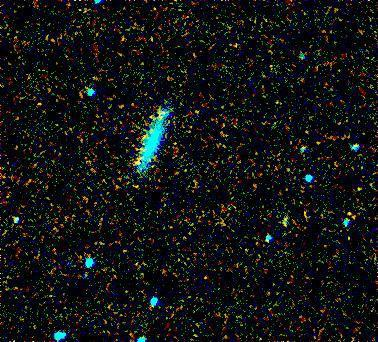star: (336, 204, 366, 234)
